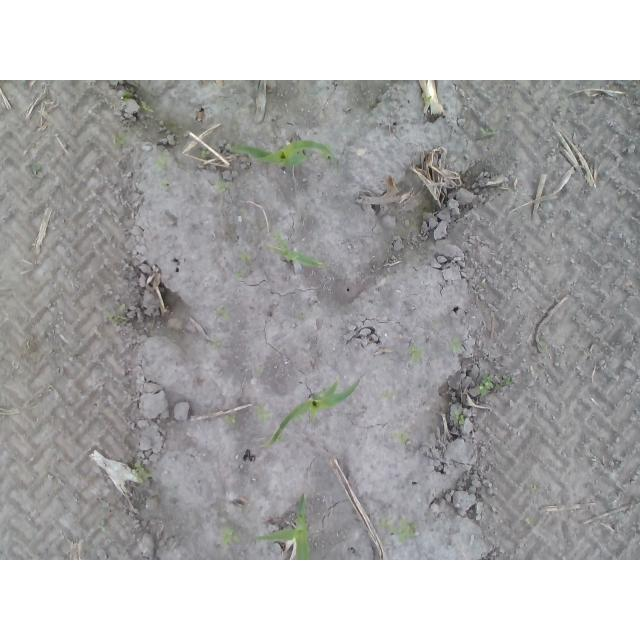Maize: (261, 377, 361, 452), (252, 493, 311, 560), (230, 139, 338, 169), (265, 233, 324, 266)
Weeds: (379, 516, 418, 542), (131, 462, 154, 483), (220, 526, 240, 547), (478, 374, 494, 395), (406, 345, 424, 363), (253, 404, 272, 421), (392, 430, 409, 446), (448, 338, 464, 354), (495, 378, 514, 391), (111, 131, 125, 148), (479, 126, 497, 138), (138, 100, 154, 113), (214, 180, 231, 192), (32, 163, 45, 178), (419, 93, 432, 108), (156, 156, 168, 172), (215, 306, 229, 319), (453, 411, 465, 426), (237, 252, 251, 264), (106, 312, 119, 324), (211, 336, 224, 348), (97, 520, 108, 533), (380, 392, 395, 400), (234, 270, 246, 279), (199, 150, 210, 159), (121, 92, 132, 101), (224, 415, 236, 423), (160, 182, 170, 191), (167, 483, 178, 489), (118, 302, 126, 310), (618, 190, 627, 197), (526, 518, 533, 525), (538, 341, 546, 347)
